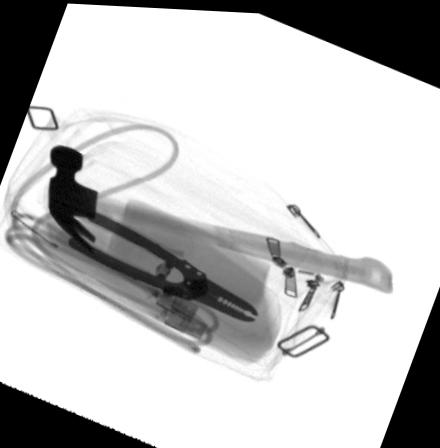Hammer: (48, 145, 394, 289)
Pliers: (69, 211, 259, 319)
